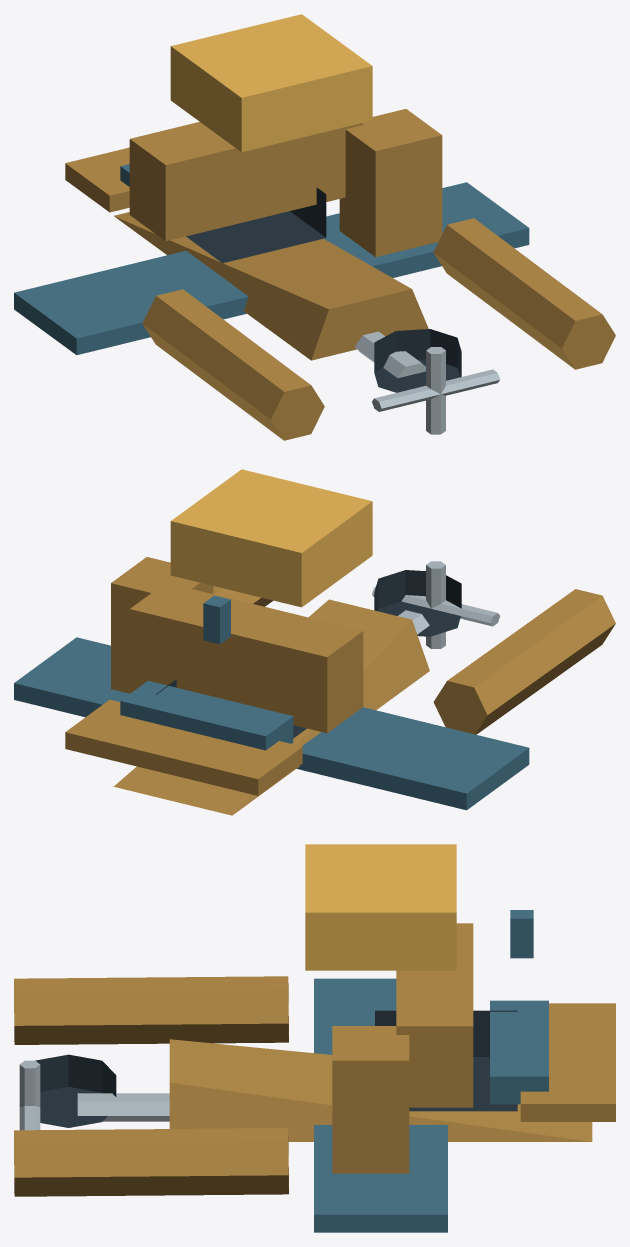
The model's file is gunship.obj.
3 views of the same model, one above another, from view 1: azimuth 30°, elevation 25°; view 2: azimuth 150°, elevation 25°; view 3: azimuth 270°, elevation 25° (orthographic). The views are drawn at different scales.
Visible parts, largest first — view 1: air; view 2: air; view 3: air.
Boxes of the visible parts, box(x1,y1,x2,y2) form: air: box(14, 14, 615, 440); air: box(14, 469, 615, 815); air: box(14, 844, 615, 1232).
Size of the model in its own units: 2.18 by 1.17 by 2.35.
